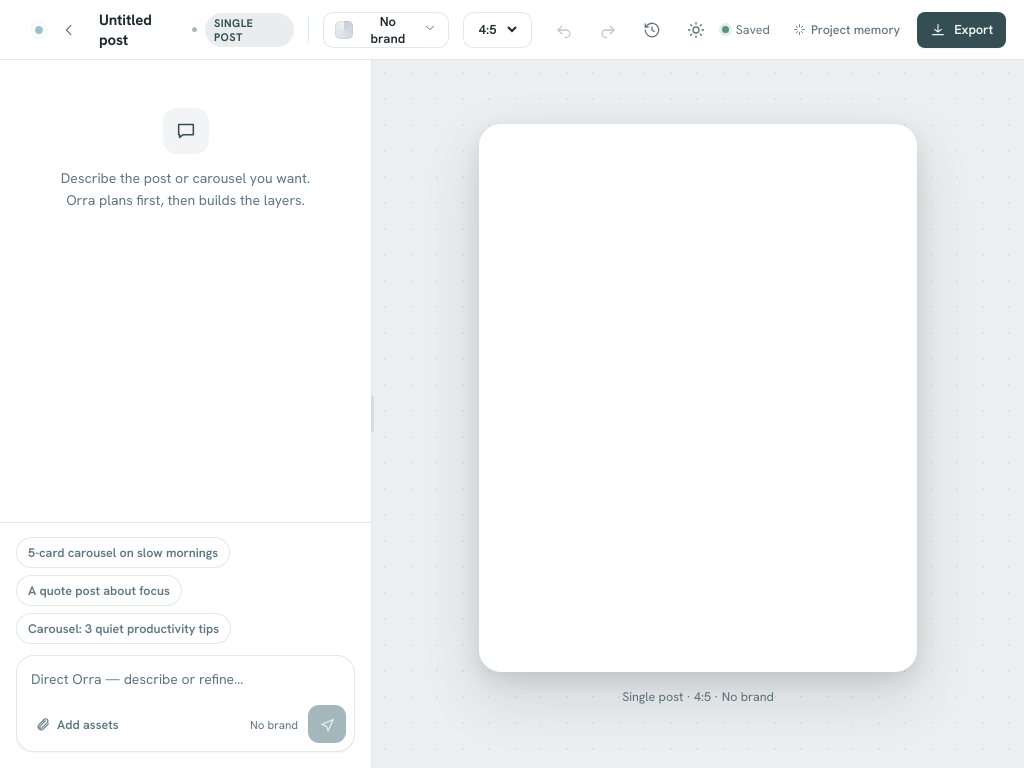
WorkspacePage chat persistence › shows optimistic user message in real project mode
The width and height of the screenshot is (1024, 768).
Step 1. Type "Hello real project" into the text box with placeholder "Direct Orra — describe or refine…" → (186, 675), box [17,656,354,694]
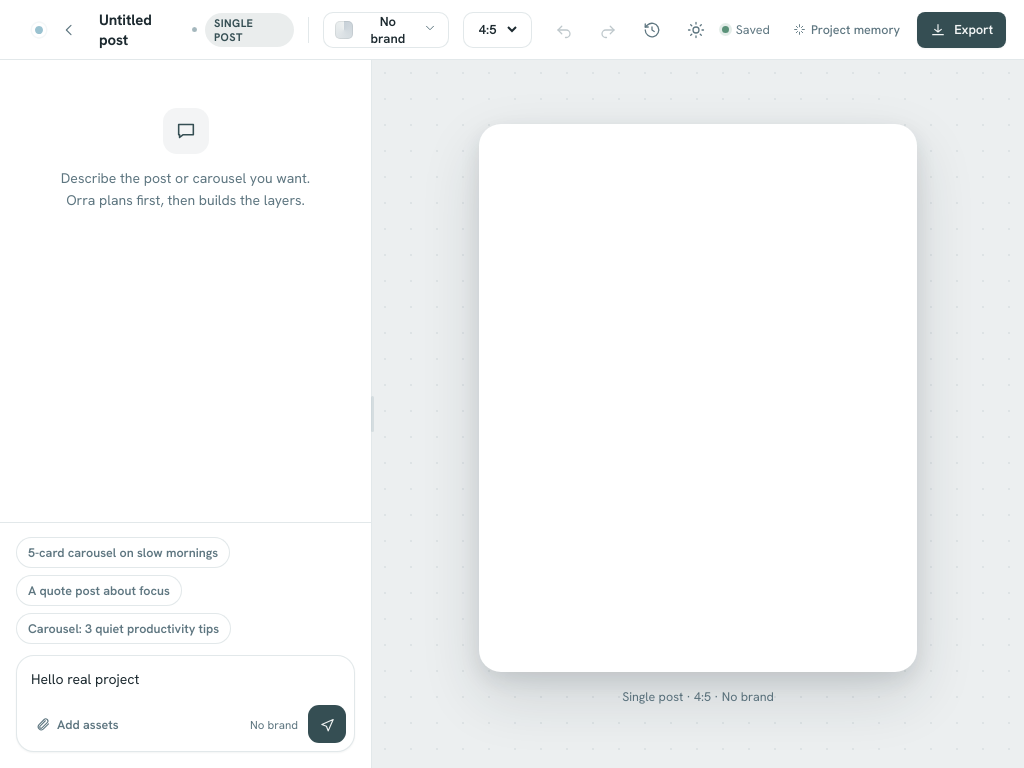
Step 2. Click the button named "Send" → (327, 724), box [308,705,346,743]
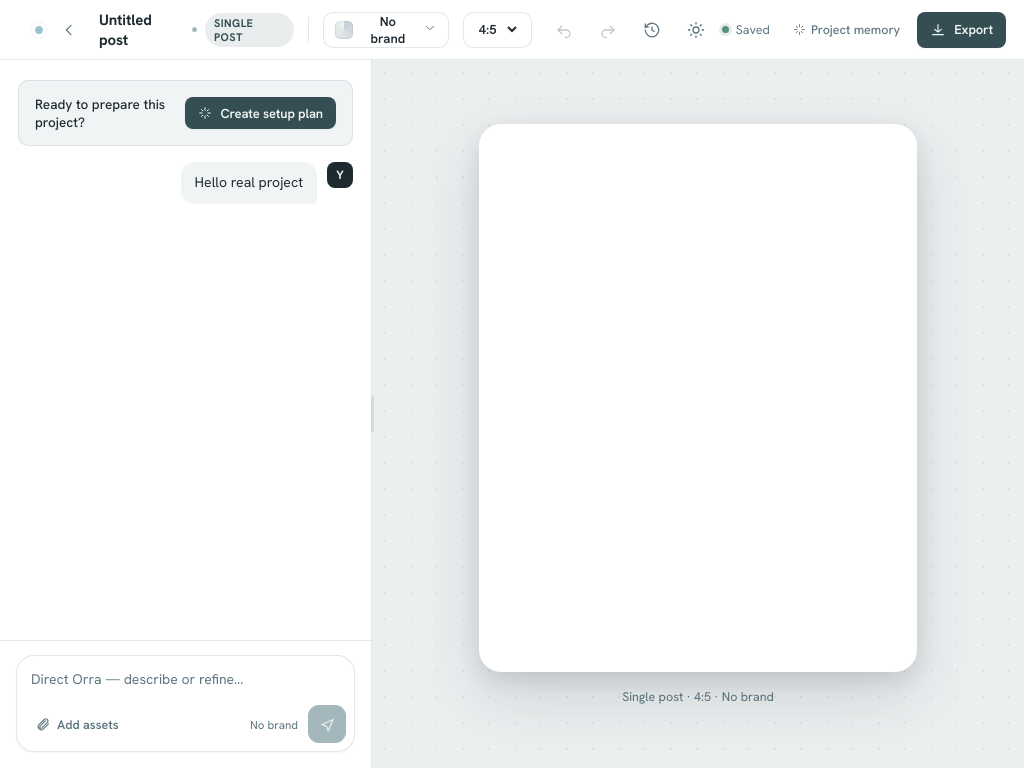
Expected: the text "Hello real project" is shown, [181,162,317,204]
